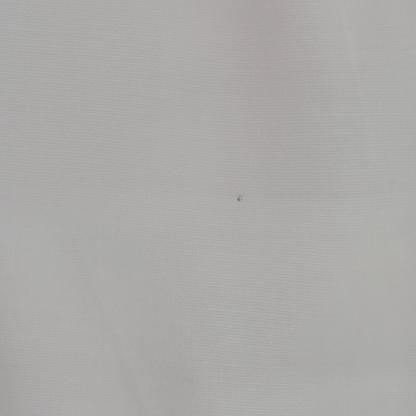spot: (234, 192, 245, 203)
